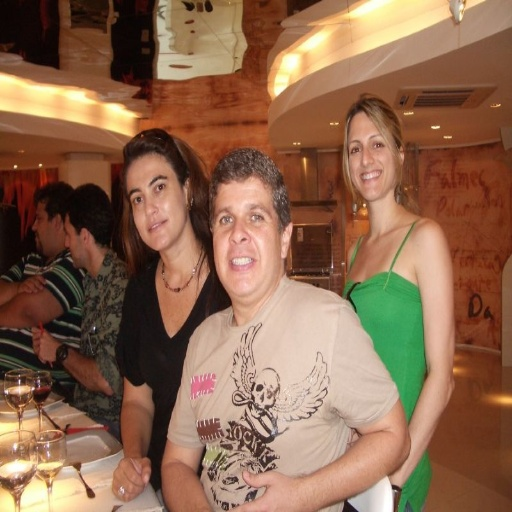hand: (224, 465, 306, 510), (106, 448, 144, 505), (30, 325, 59, 366), (14, 274, 47, 294)
